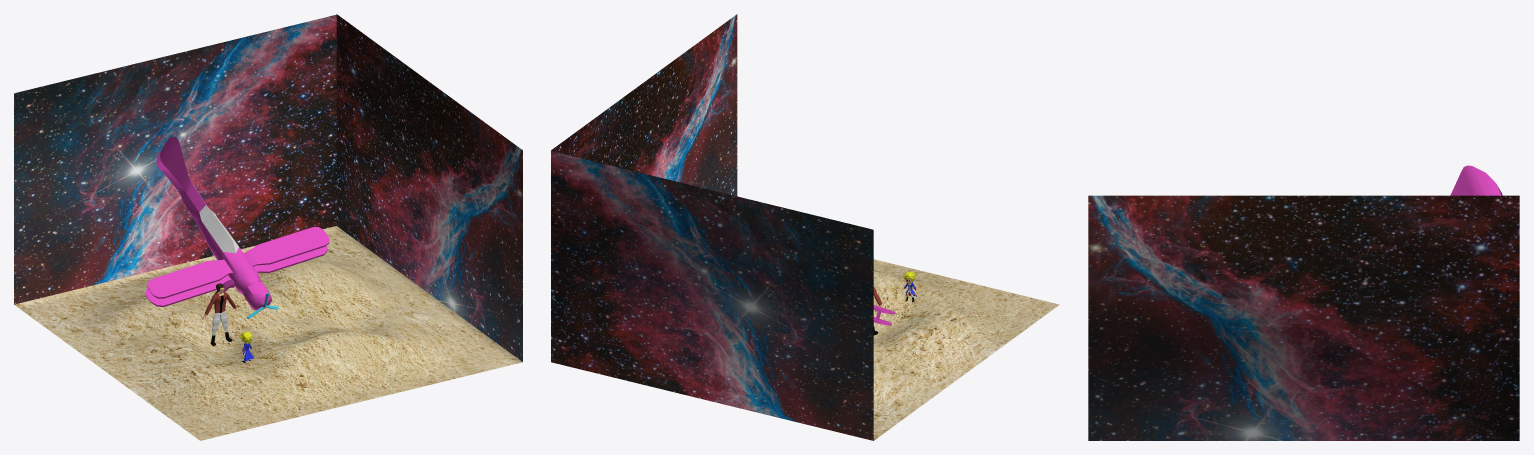
3 renders of one model, left to right at view 1: azimuth 30°, elevation 25°; view 2: azimuth 150°, elevation 25°; view 3: azimuth 270°, elevation 25°, orthographic. The views are drawn at different scales.
Visible parts, largest first — view 1: Landscape.001_3, Avioneta_4, Casco_6; view 2: Landscape.001_3; view 3: Landscape.001_3, Avioneta_4.
Part boxes in pixels (<box>): Landscape.001_3: <box>14,14,522,440</box>; Avioneta_4: <box>145,137,329,318</box>; Casco_6: <box>202,283,238,345</box>; Landscape.001_3: <box>551,14,1059,440</box>; Landscape.001_3: <box>1088,195,1519,440</box>; Avioneta_4: <box>1450,165,1502,195</box>.
Size of the model in its own units: 42.5 by 26.67 by 42.5.
Materials: 21 (2 with a texture image).
